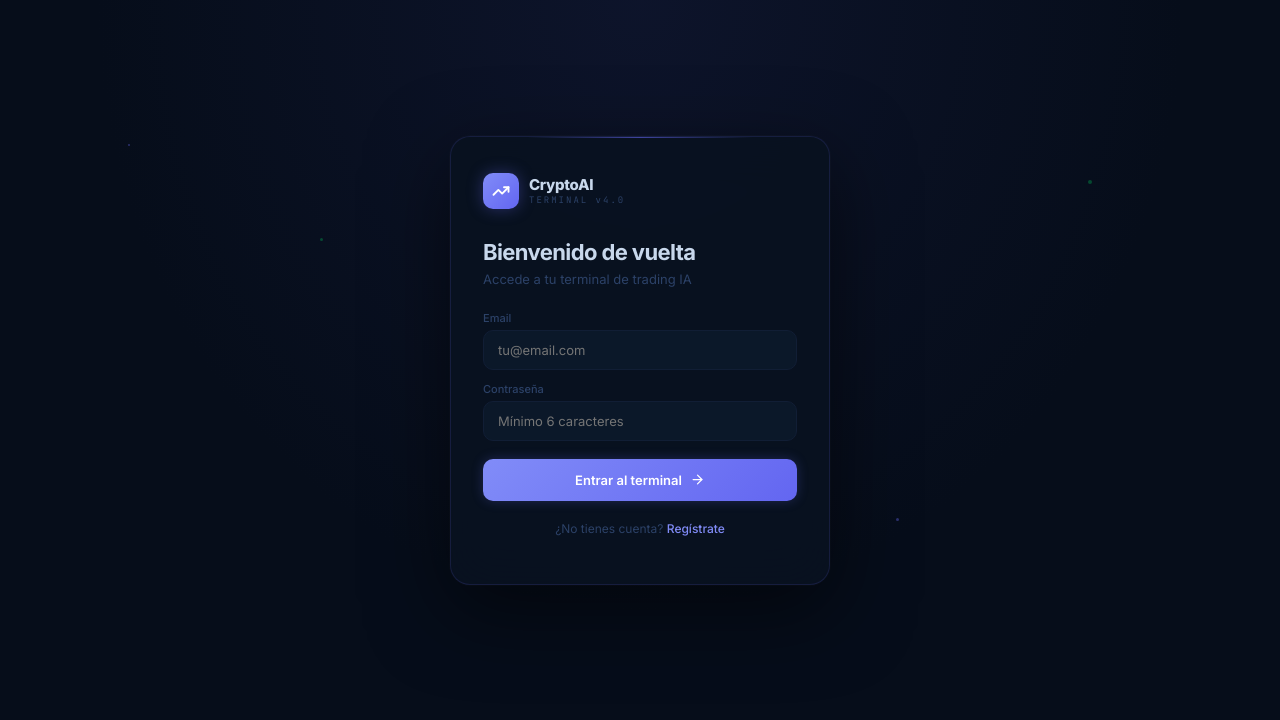
it: Login › shows error when name is empty in register mode
Click the text "Regístrate". click: (696, 528)
box: [667,520,725,536]
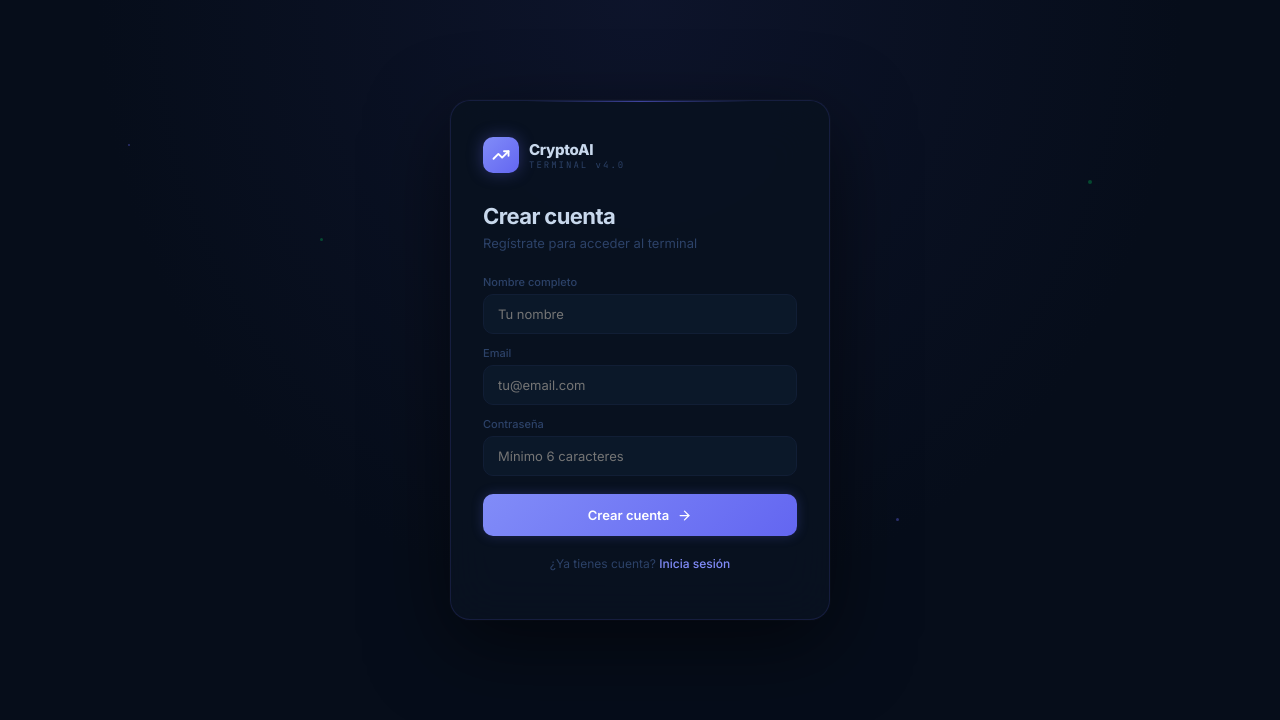
Result: the field with placeholder "Tu nombre" is shown at [483,294,797,334]
Type "user@test.com" into the field with placeholder "tu@email.com". click: (640, 385)
box: [483,365,797,405]
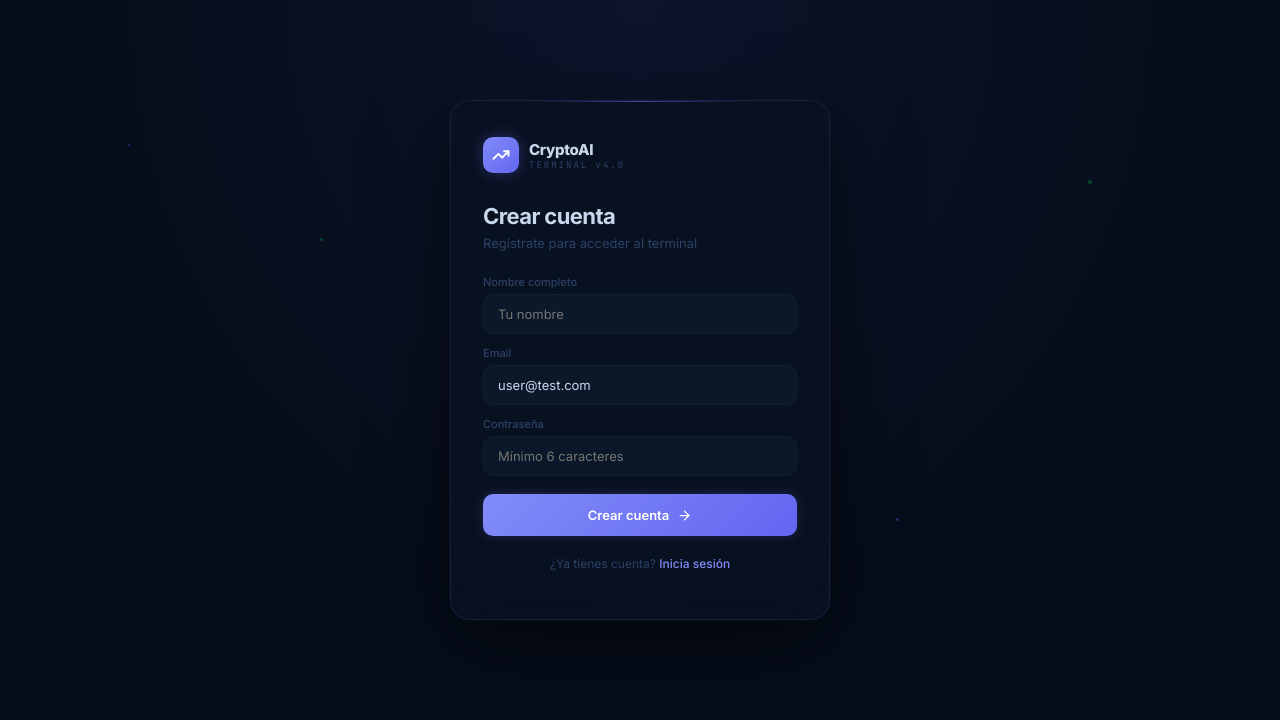
Type "password123" into the password field with placeholder "Mínimo 6 caracteres". click: (640, 456)
box: [483,436,797,476]
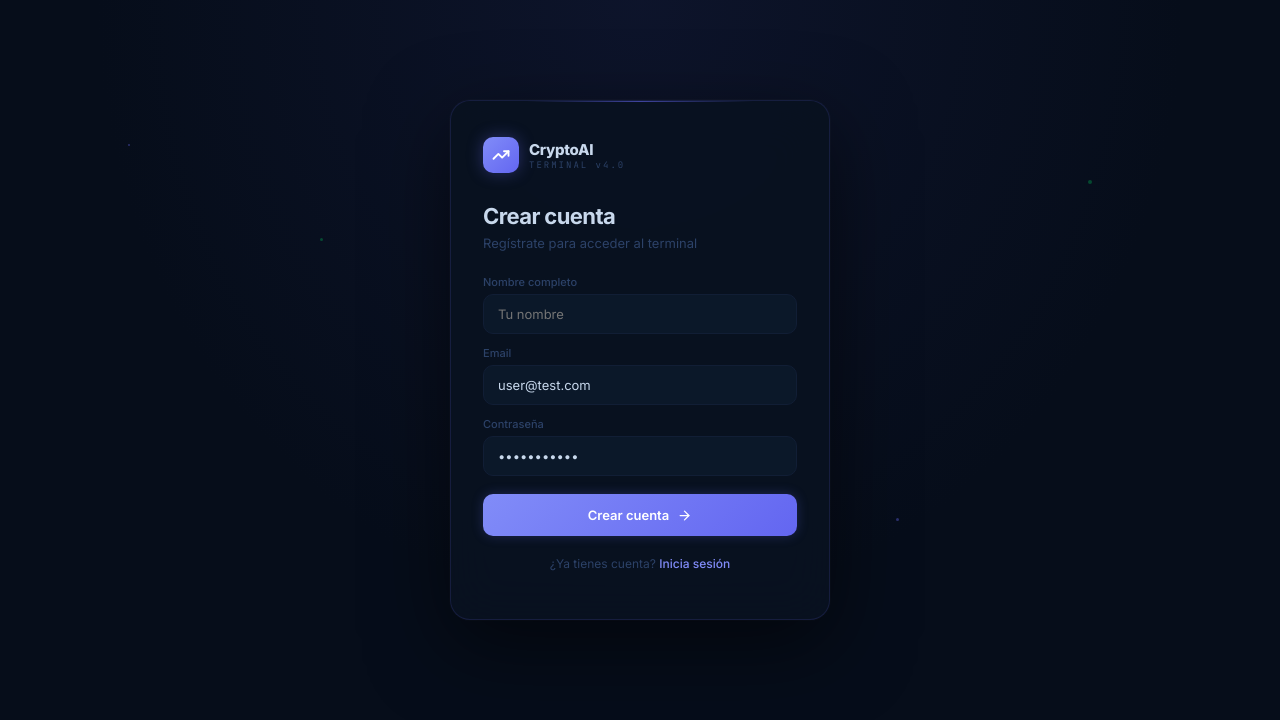
Click the button "Crear cuenta". click: (640, 515)
box: [483,494,797,536]
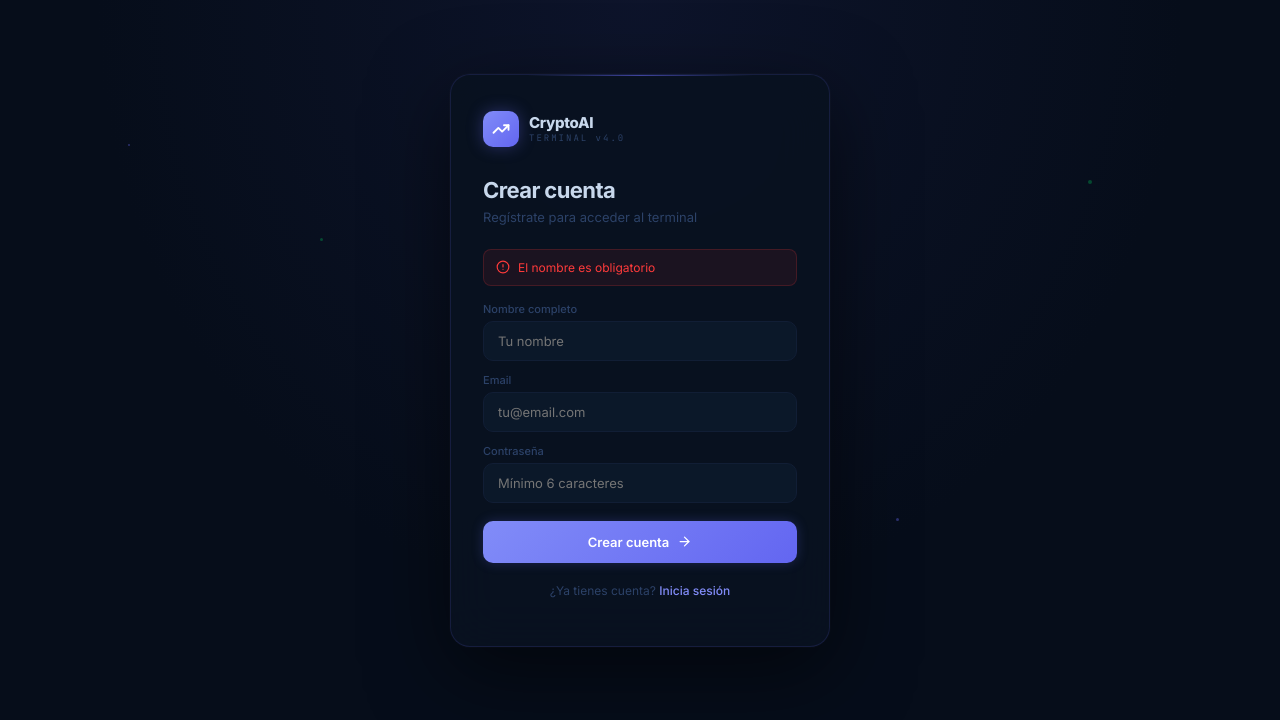
Result: the text "El nombre es obligatorio" is shown at [483,248,797,286]
